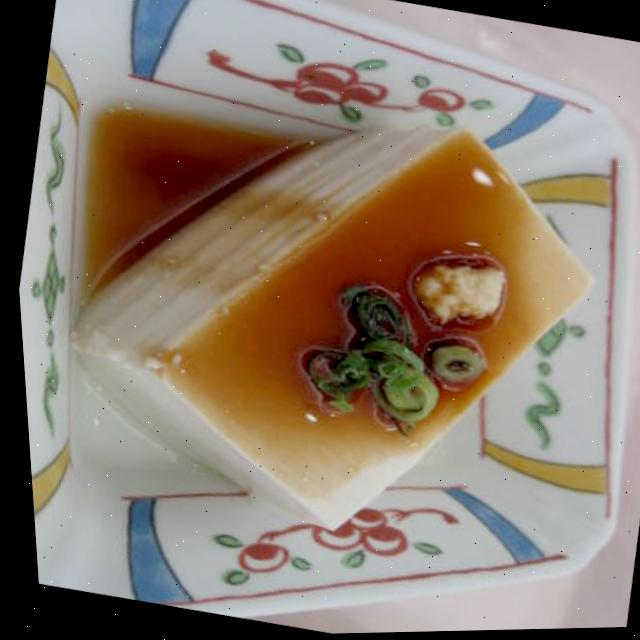豆腐料理: (33, 46, 601, 580)
